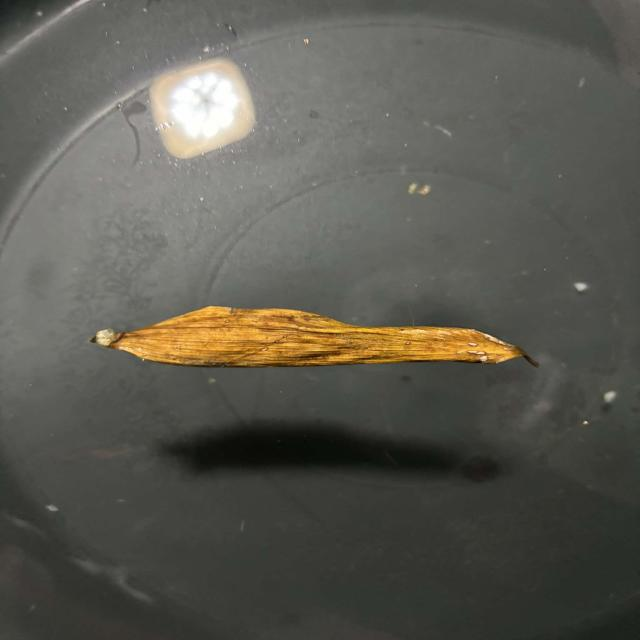Leaf: (80, 300, 550, 380)
